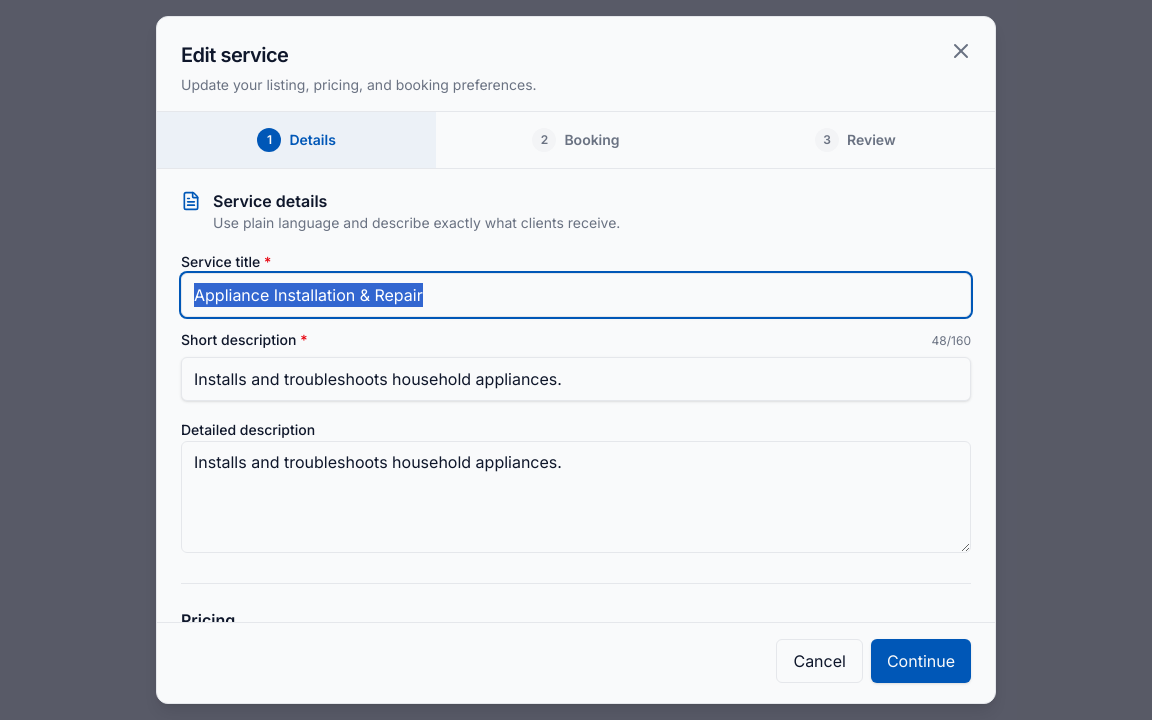
Test: ProfileEditModal › presents the same listing fields and steps as add service
The image size is (1152, 720).
Expected: the heading "Service details" is shown, [213,191,327,211]
Expected: the heading "Pricing" is shown, [181,610,235,622]
What coordinates should you click on to do the following:
click the button "Continue"
I would click on:
 (921, 661)
Its box is [871,639,971,683].
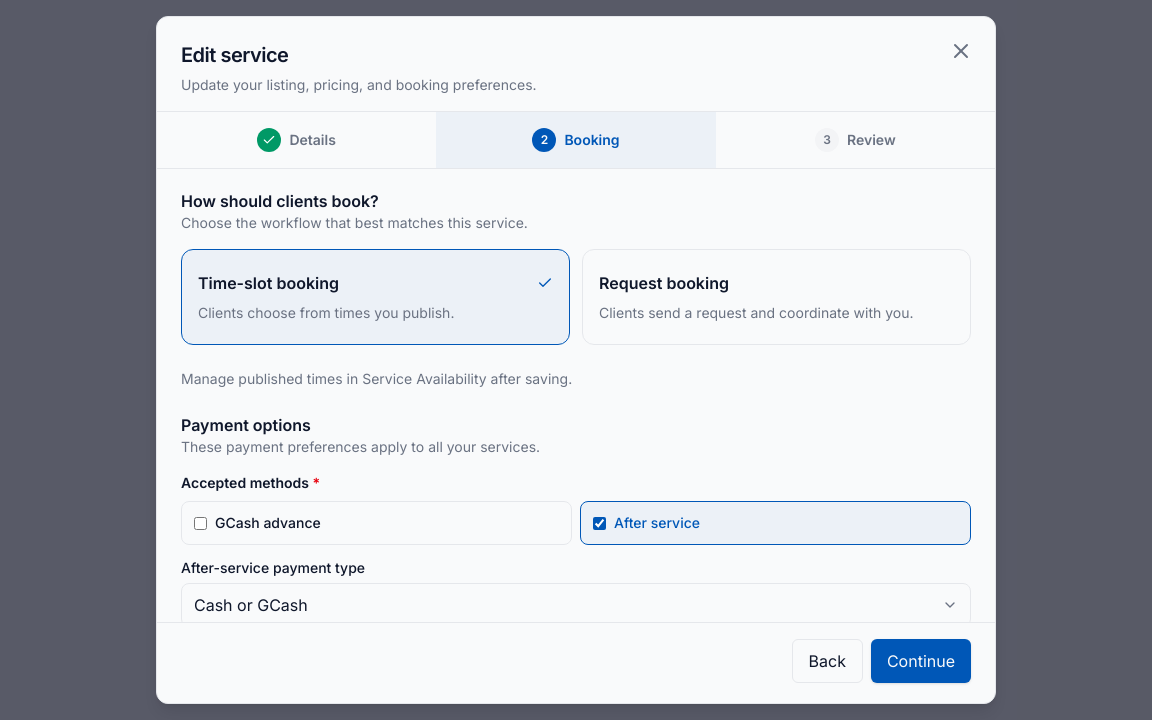
Result: the heading "Payment options" is shown at [181,415,311,435]
